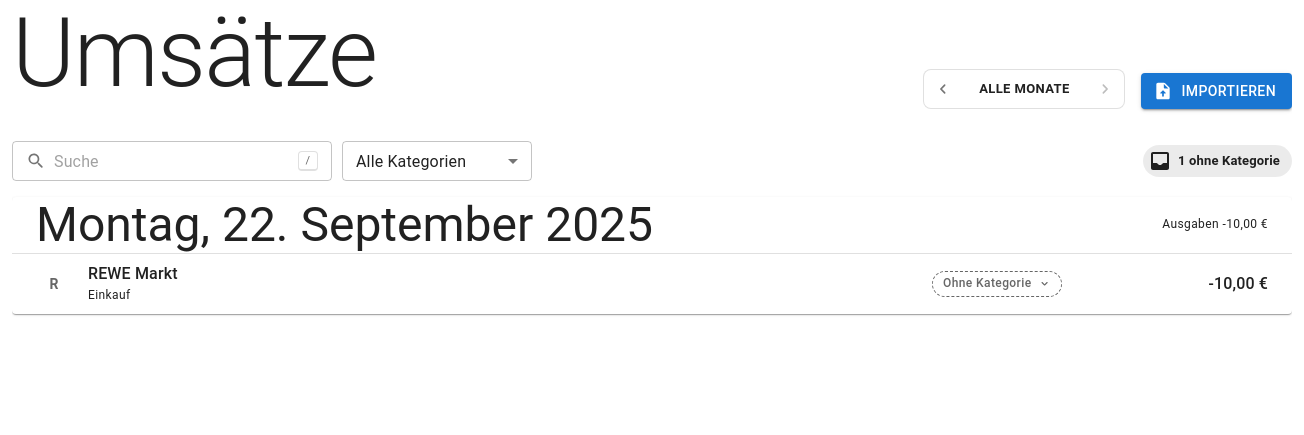
Test case: TransactionsPage, „Immer so“ › offers nothing when the write is refused
The image size is (1304, 435).
Expected: the dropdown named "Kategorie filtern" is shown, [356, 152, 466, 170]
What coordinates should you click on to do the following:
click the button with aria-label "Kategorie: Ohne Kategorie"
I would click on:
 (997, 284)
Its box is [932, 271, 1062, 297].
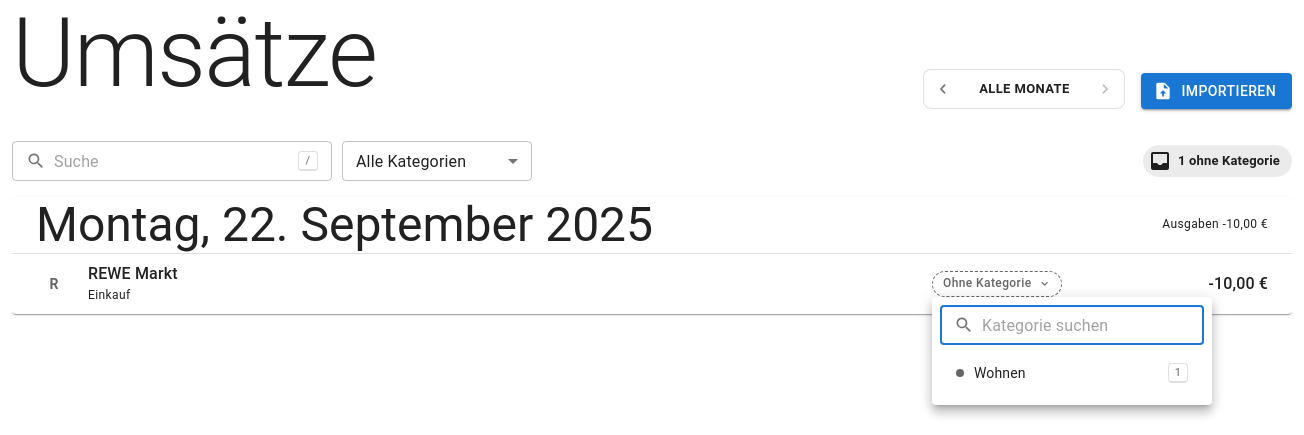
What coordinates should you click on to do the following:
click the menu item "Wohnen 1"
I would click on:
 (1000, 373)
Its box is [940, 357, 1204, 389].
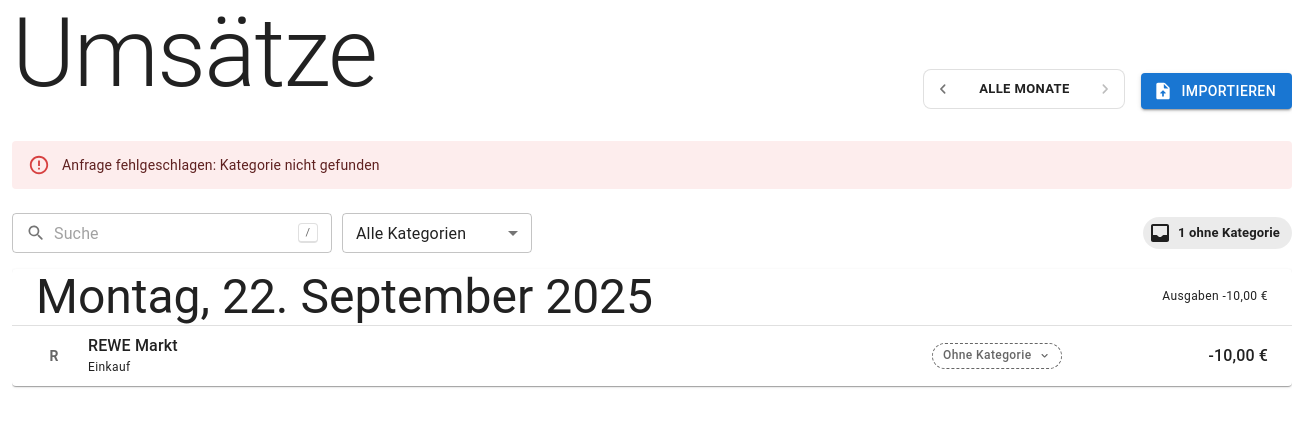
Expected: the text "Anfrage fehlgeschlagen: Kategorie nicht gefunden" is shown, [62, 157, 380, 173]
